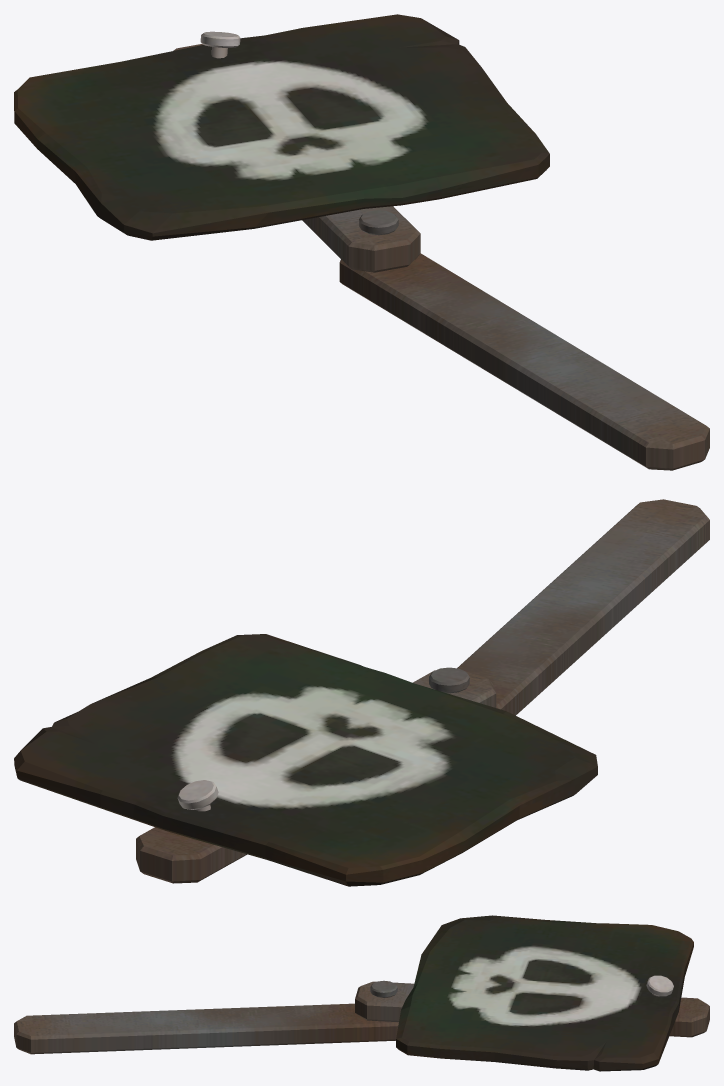
File: SignBoardPoison.FBX
3 renders of one model, top to bottom at view 1: azimuth 30°, elevation 25°; view 2: azimuth 150°, elevation 25°; view 3: azimuth 270°, elevation 25°, orthographic. The views are drawn at different scales.
Parts seen in each view (by area): view 1: SignBoadPoison_Axis2_1__SignBoadPoison_phong1; view 2: SignBoadPoison_Axis2_1__SignBoadPoison_phong1; view 3: SignBoadPoison_Axis2_1__SignBoadPoison_phong1.
Part boxes in pixels (x1,y1,x2,y2): SignBoadPoison_Axis2_1__SignBoadPoison_phong1: (14, 14, 709, 470); SignBoadPoison_Axis2_1__SignBoadPoison_phong1: (14, 499, 709, 886); SignBoadPoison_Axis2_1__SignBoadPoison_phong1: (14, 915, 709, 1071).
Bounding box in the file's own units: 256 × 52.71 × 510.
